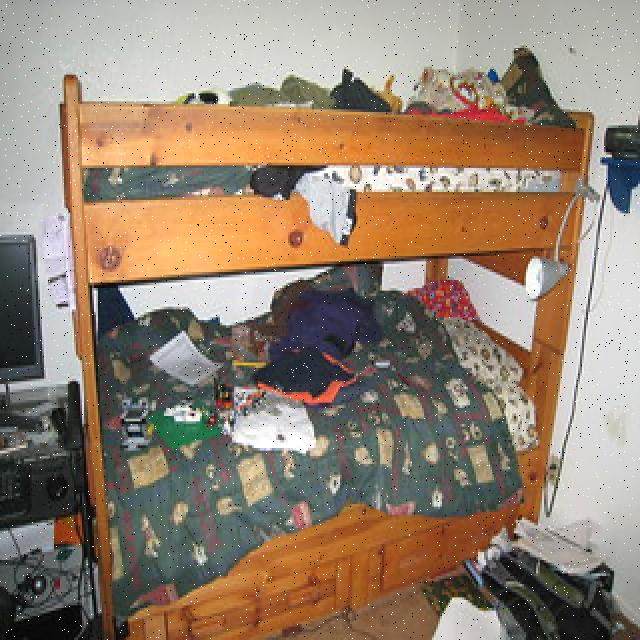bed: (98, 266, 539, 534), (79, 55, 570, 196)
